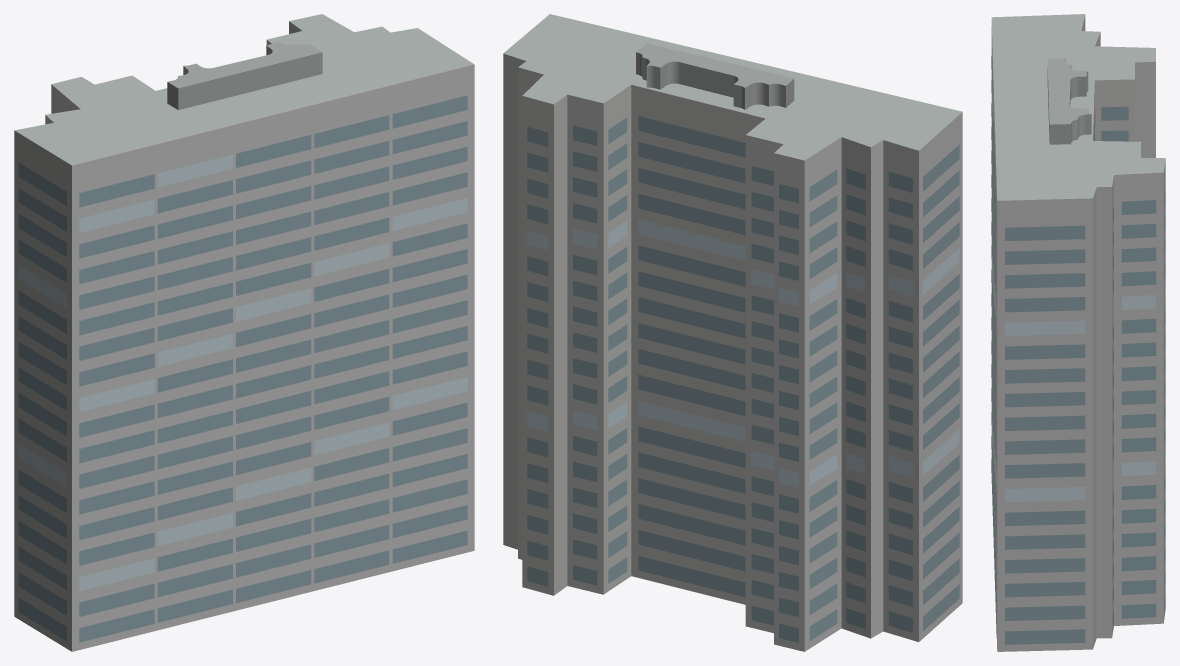
Rendered from fallback-godeok-central-ipark-510.glb.
3 views of the same model, side by side, from view 1: azimuth 30°, elevation 25°; view 2: azimuth 150°, elevation 25°; view 3: azimuth 270°, elevation 25° (orthographic). The views are drawn at different scales.
Parts seen in each view (by area): view 1: fallback-godeok-central-ipark-510; view 2: fallback-godeok-central-ipark-510; view 3: fallback-godeok-central-ipark-510.
Part boxes in pixels (x1,y1,x2,y2): fallback-godeok-central-ipark-510: [14, 14, 474, 651]; fallback-godeok-central-ipark-510: [503, 14, 962, 651]; fallback-godeok-central-ipark-510: [991, 14, 1165, 651].
Size of the model in its own units: 47.6 by 56 by 18.79.
